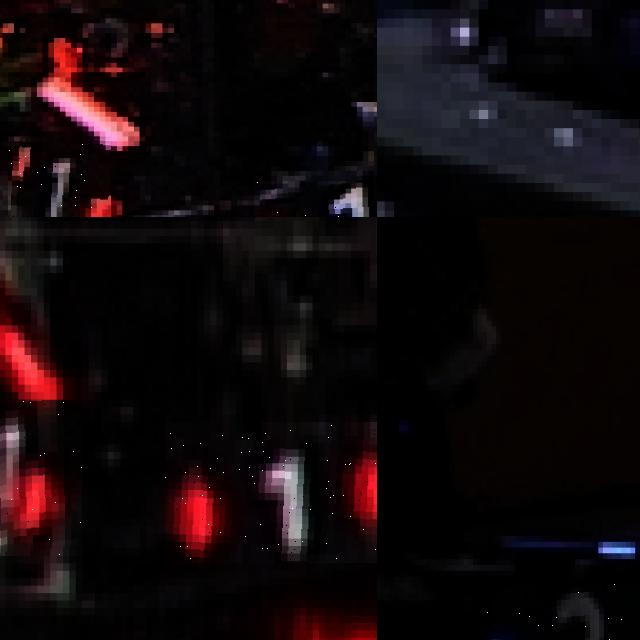B3: (482, 582, 640, 640)
R1: (165, 421, 377, 563), (0, 399, 82, 556), (8, 136, 111, 217), (253, 180, 377, 217)
